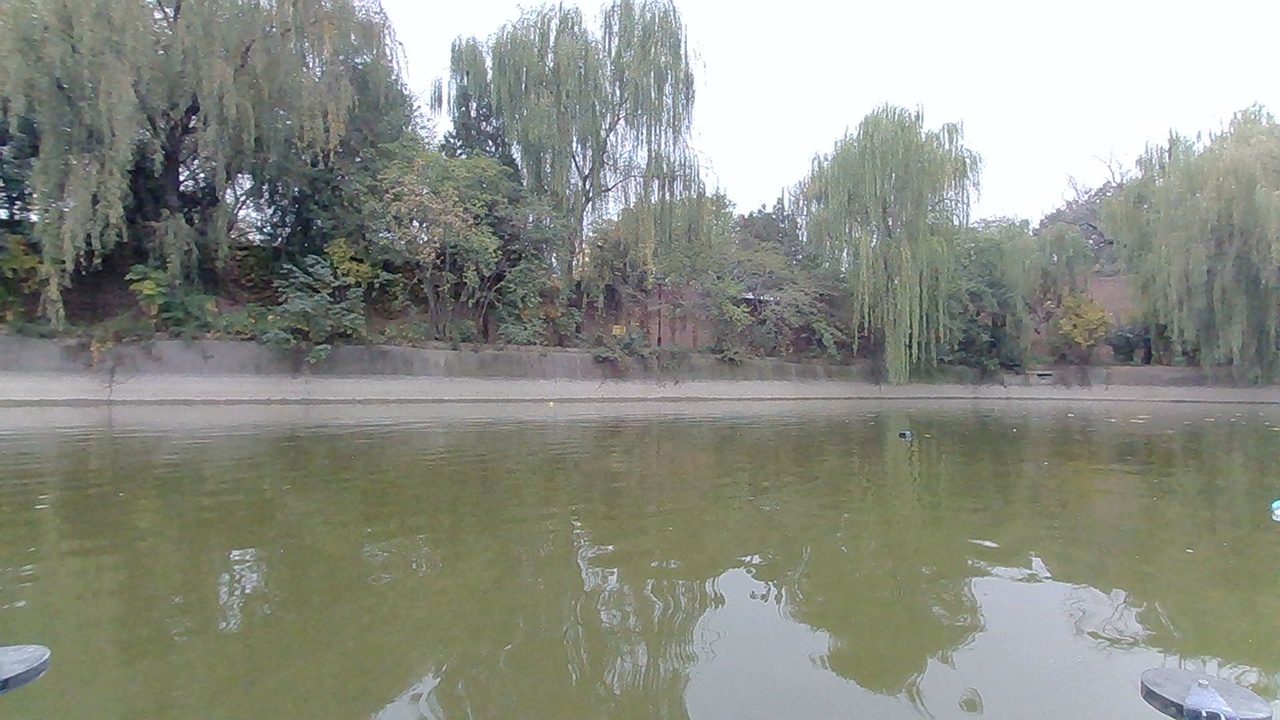bottle: (891, 418, 919, 444), (1266, 489, 1280, 527)
